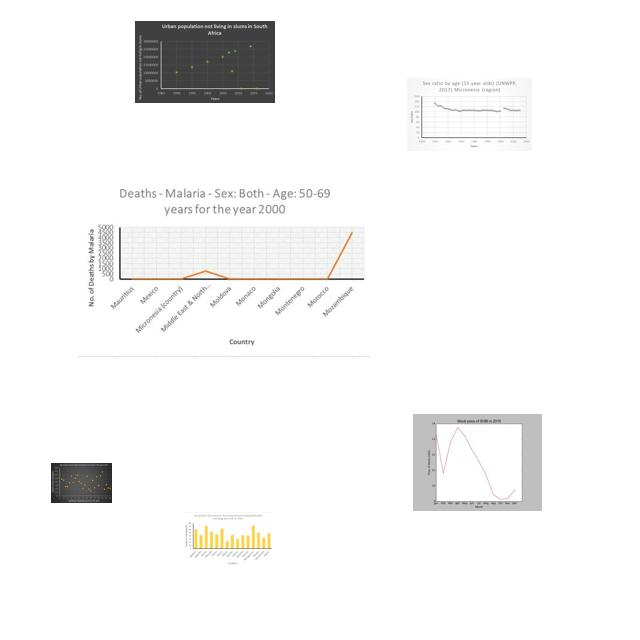Graph: (77, 180, 371, 358), (413, 414, 542, 511), (135, 21, 275, 103), (407, 78, 532, 151), (183, 512, 273, 566), (51, 463, 112, 503)
